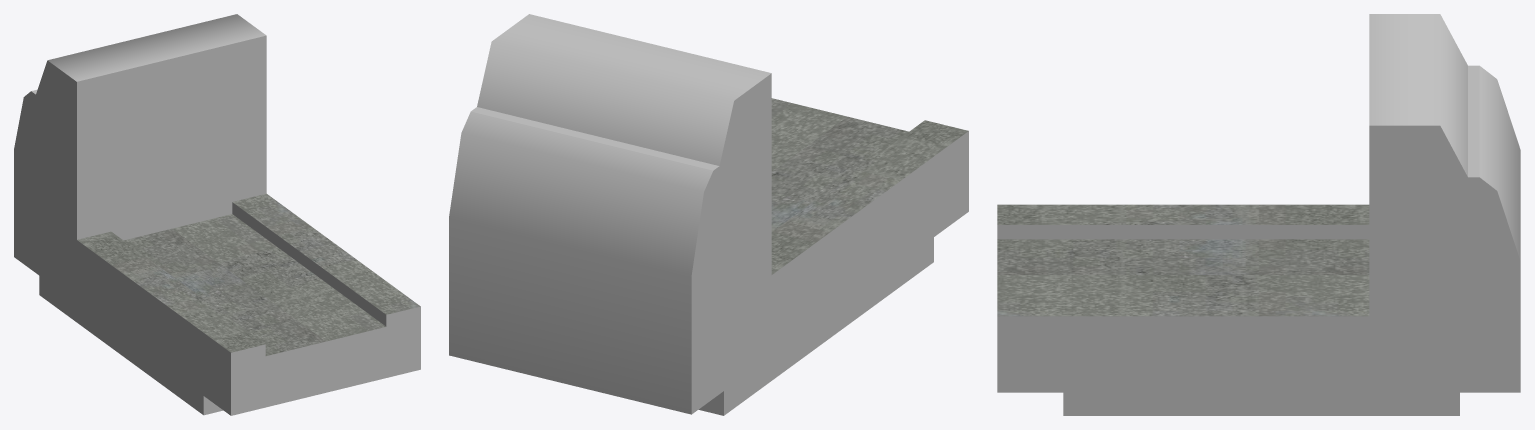
The model's file is truck_flat.dae.
3 views of the same model, side by side, from view 1: azimuth 30°, elevation 25°; view 2: azimuth 150°, elevation 25°; view 3: azimuth 270°, elevation 25° (orthographic). The views are drawn at different scales.
Parts seen in each view (by area): view 1: truck_flat; view 2: truck_flat; view 3: truck_flat.
Part boxes in pixels (left/top/right/bottom): truck_flat: left=14, top=14, right=420, bottom=415; truck_flat: left=449, top=14, right=968, bottom=415; truck_flat: left=997, top=14, right=1520, bottom=415.
Size of the model in its own units: 0.83 by 1.01 by 1.64.
